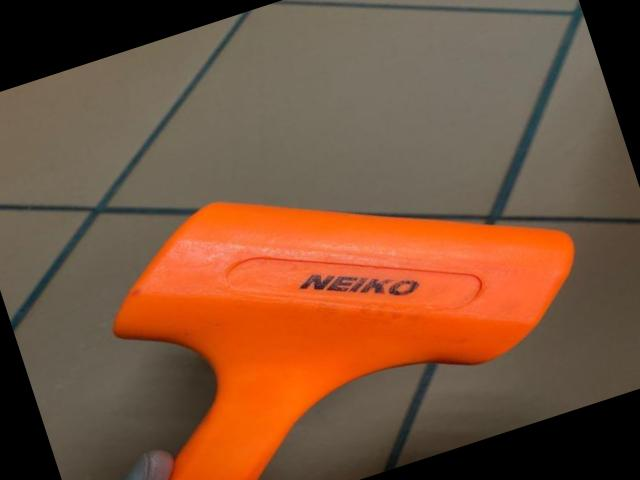hammer: (3, 99, 624, 480)
